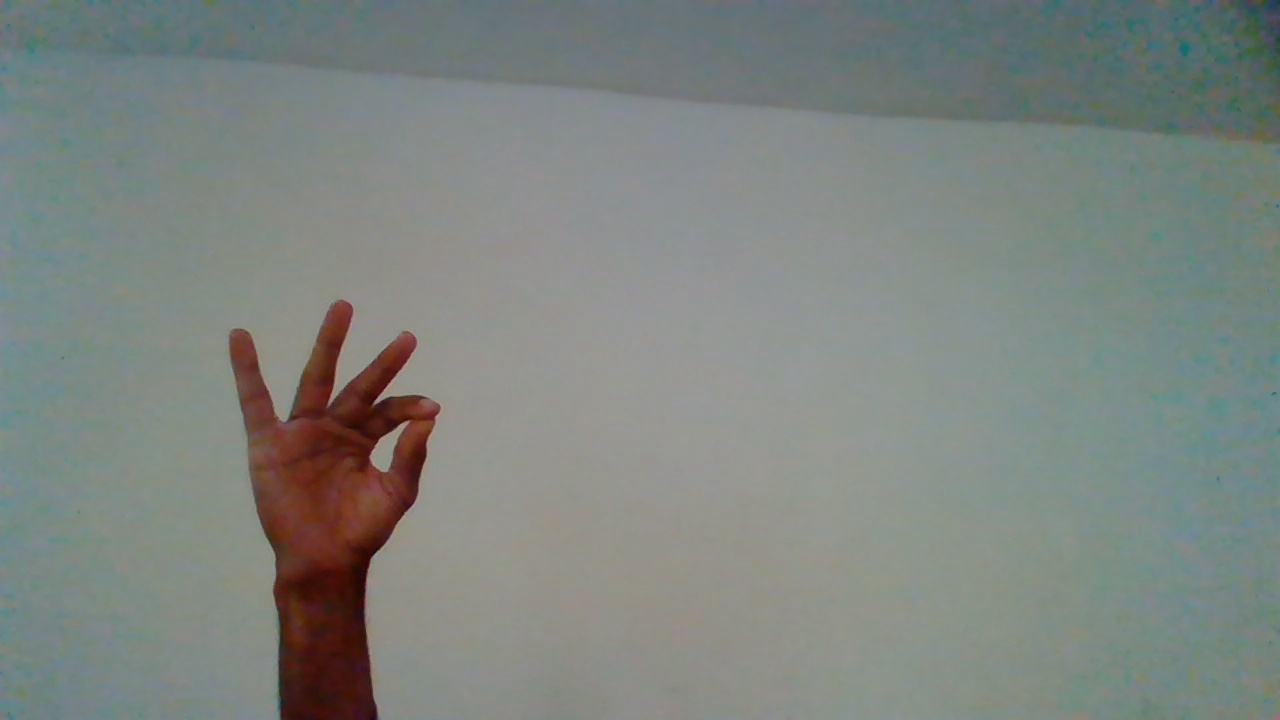le: (223, 300, 432, 677)
